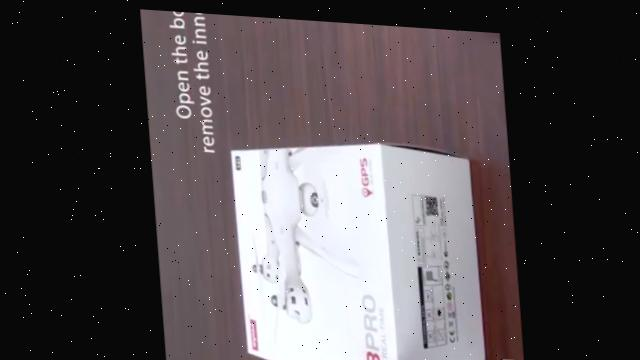drone: (239, 135, 357, 341)
